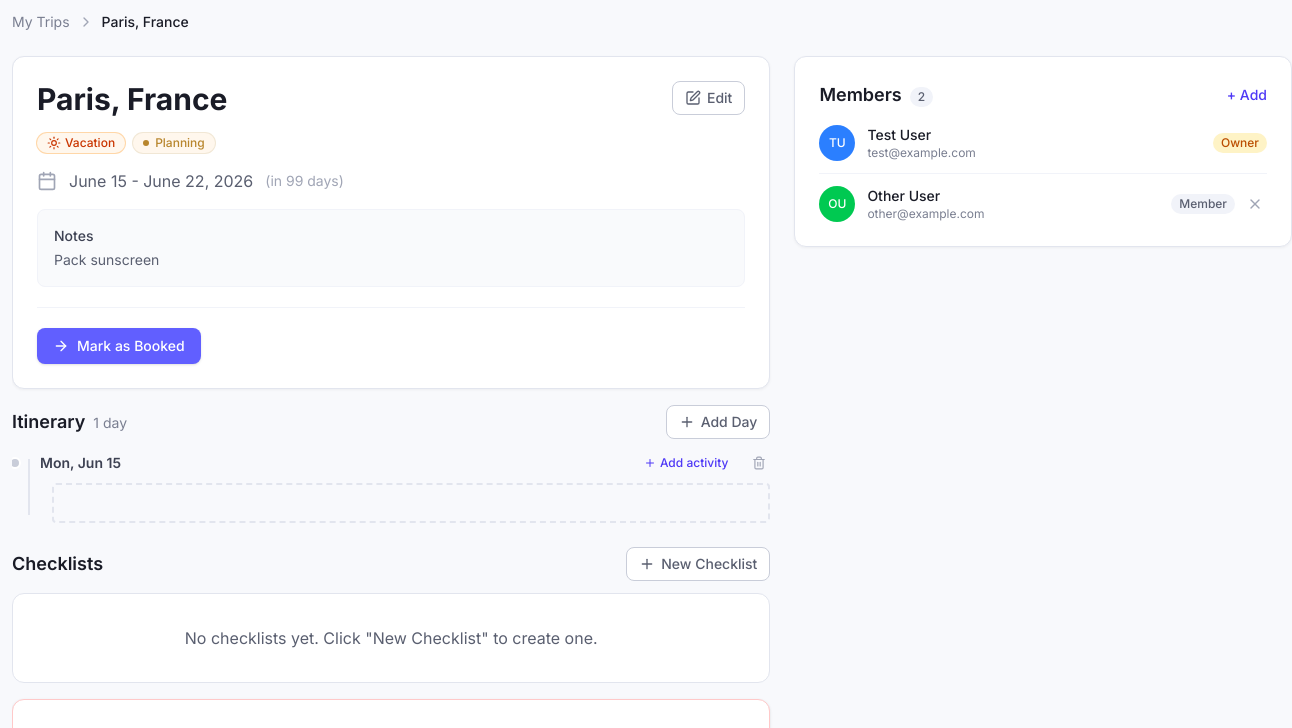
Test: TripDetailPage › toggles Add activity button to Cancel when form is open
# Click to open form
Click the button "Add activity" at (686, 463), box [636,451,736,475]
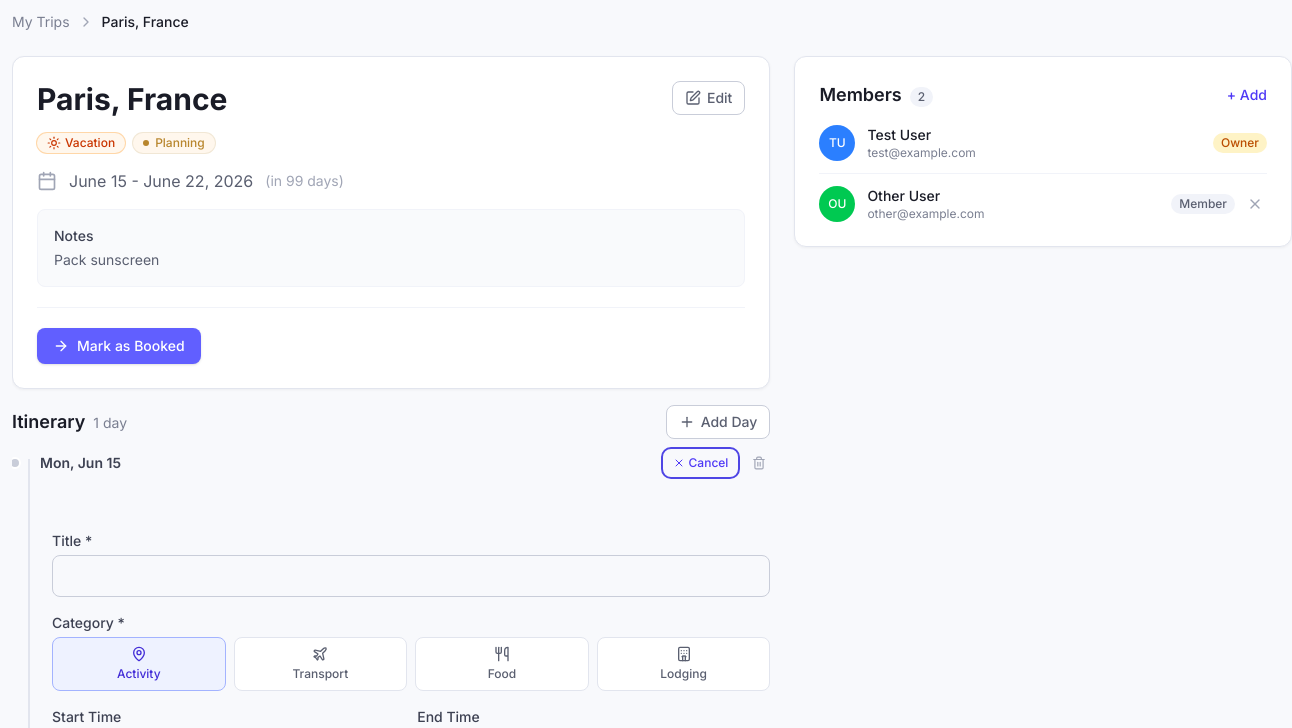
Expected: the text "Add activity" is not shown
# Click the first Cancel (header toggle) to close
Click the button "Cancel" at (700, 463), box [664,451,736,475]
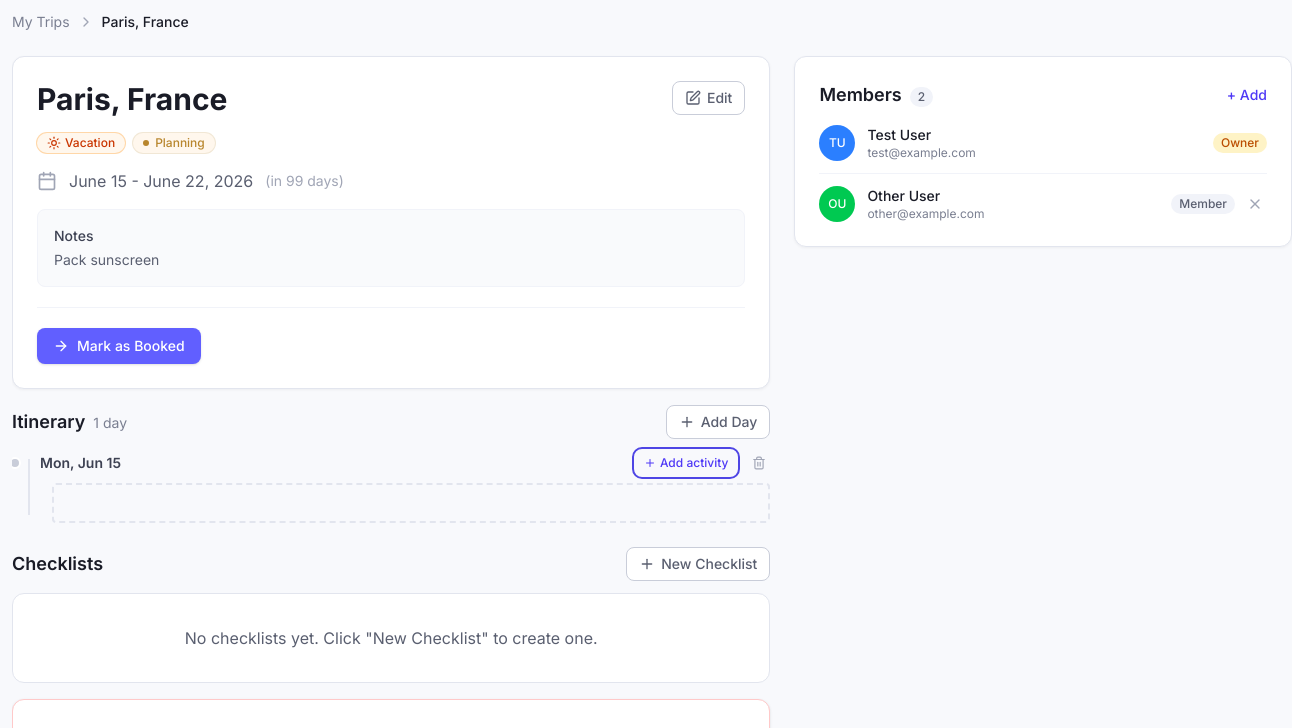
Result: the button "Add activity" is shown at [636,451,736,475]
